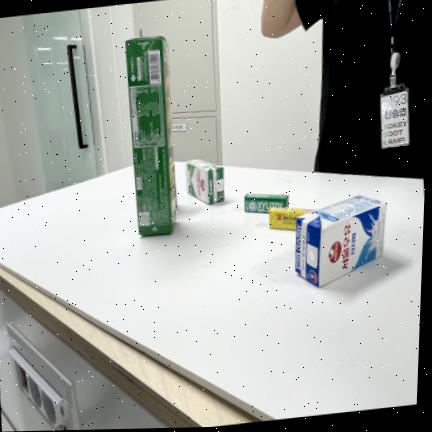cracker_vege: (125, 37, 177, 235)
gum_green: (244, 194, 289, 213)
gum_yellow: (269, 207, 313, 230)
milk_blue: (295, 195, 387, 287)
milk_green: (185, 159, 225, 204)
